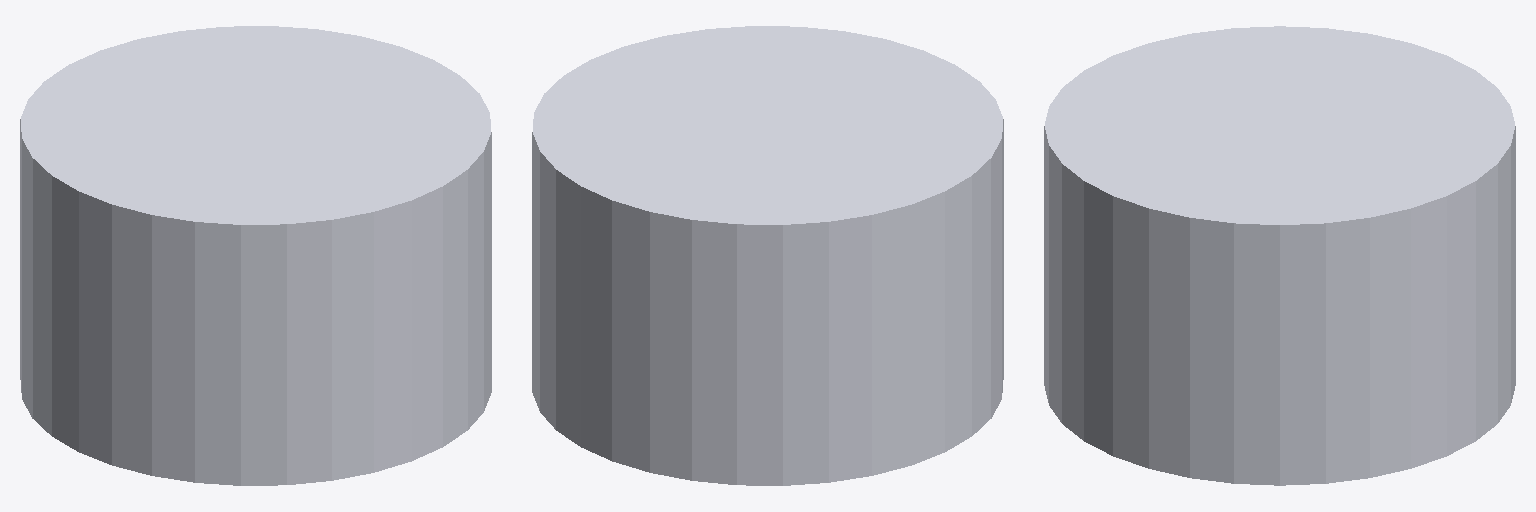
robot.urdf — miniBox:
<?xml version='1.0'?>
<robot name="miniBox">

    <!-- Base Link -->
    <link name="base_link">
        <visual>
        <origin xyz="0 0 0" rpy="0 0 0" />
        <geometry>
            <cylinder length="0.01" radius="0.25" />
        </geometry>
        <material name="white">
            <color rgba="0.90 0.91 0.95 1"/>
        </material>
        </visual>
        <!-- Base collision, mass and inertia -->
        <collision>
            <origin xyz="0 0 0" rpy="0 0 0" />
            <geometry>
                <cylinder length="0.01" radius="0.25" />
            </geometry>
        </collision>
            <inertial>
            <mass value="60"/>
          <inertia ixx="0.019995" ixy="0.0" ixz="0.0" iyy="0.019995" iyz="0.0" izz="0.03675"/>

        </inertial>
    </link>

    <link name="top_link">
        <visual>
        <origin xyz="0 0 0" rpy="0 0 0" />
        <geometry>
            <cylinder length="0.3" radius="0.25" />
        </geometry>
        <material name="white">
            <color rgba="0.90 0.91 0.95 1"/>
        </material>
        </visual>
        <!-- Base collision, mass and inertia -->
        <collision>
            <origin xyz="0 0 0" rpy="0 0 0" />
            <geometry>
                <cylinder length="0.3" radius="0.25" />
            </geometry>
        </collision>
    </link>

    <!-- Top joint -->
    <joint name="joint_top" type="continuous">
        <parent link="base_link"/>
        <child link="top_link"/>
        <origin xyz="0 0 0.15" rpy="0 0 0" />
        <axis xyz="0 1 0" />
    </joint>

    <!-- Right Wheel -->
    <link name="right_wheel">
        <visual>
        <origin xyz="0 0 0" rpy="1.570795 0 0" />
        <geometry>
            <cylinder length="0.1" radius="0.1" />
        </geometry>
        <material name="darkgray">
            <color rgba="0.2 0.2 0.2 1"/>
        </material>
        </visual>
        <!-- Right Wheel collision, mass and inertia -->
        <collision>
            <origin xyz="0 0 0" rpy="1.570795 0 0" />
            <geometry>
                <cylinder length="0.1" radius="0.1" />
            </geometry>
        </collision>
        <inertial>
            <mass value="0.5"/>
            <inertia ixx="0.01" ixy="0.0" ixz="0.0" iyy="0.005" iyz="0.0" izz="0.005"/>
        </inertial>

    </link>

    <!-- Right Wheel joint -->
    <joint name="joint_right_wheel" type="continuous">
        <parent link="base_link"/>
        <child link="right_wheel"/>
        <origin xyz="0 -0.115 0.09" rpy="0 0 0" />
        <axis xyz="0 1 0" />
    </joint>

    <!-- Left Wheel -->
    <link name="left_wheel">
        <visual>
        <origin xyz="0 0 0" rpy="1.570795 0 0" />
        <geometry>
            <cylinder length="0.1" radius="0.1" />
        </geometry>
        <material name="darkgray">
            <color rgba="0.2 0.2 0.2 1"/>
        </material>
        </visual>
        <!-- Left Wheel collision, mass and inertia -->
        <collision>
            <origin xyz="0 0 0" rpy="1.570795 0 0" />
            <geometry>
                <cylinder length="0.1" radius="0.1" />
            </geometry>
        </collision>
        <inertial>
            <mass value="0.5"/>
            <inertia ixx="0.01" ixy="0.0" ixz="0.0" iyy="0.005" iyz="0.0" izz="0.005"/>
        </inertial>
    </link>

    <!-- Left Wheel joint -->
    <joint name="joint_left_wheel" type="continuous">
        <parent link="base_link"/>
        <child link="left_wheel"/>
        <origin xyz="0 0.115 0.09" rpy="0 0 0" />
        <axis xyz="0 1 0" />
    </joint>
</robot>

--- Facts derived from the render (not from the file) ---
Views: 3 orthographic renders of the robot side by side, from view 1: azimuth 30°, elevation 25°; view 2: azimuth 150°, elevation 25°; view 3: azimuth 270°, elevation 25°.
Robot: miniBox — 4 links, 3 joints (3 continuous); root link base_link; default pose: every joint at zero.
Visible links, largest first — view 1: top_link, base_link; view 2: top_link, base_link; view 3: top_link, base_link.
Link boxes in pixels (box(x1,y1,x2,y2)): top_link: box(20, 26, 491, 481); base_link: box(20, 373, 491, 485); top_link: box(532, 26, 1003, 480); base_link: box(532, 372, 1003, 485); top_link: box(1044, 26, 1515, 480); base_link: box(1044, 378, 1515, 485).
Size in the robot's own frame: 0.5 by 0.5 by 0.31 metres.
Geometry: primitives only (box / cylinder / sphere), no mesh files.